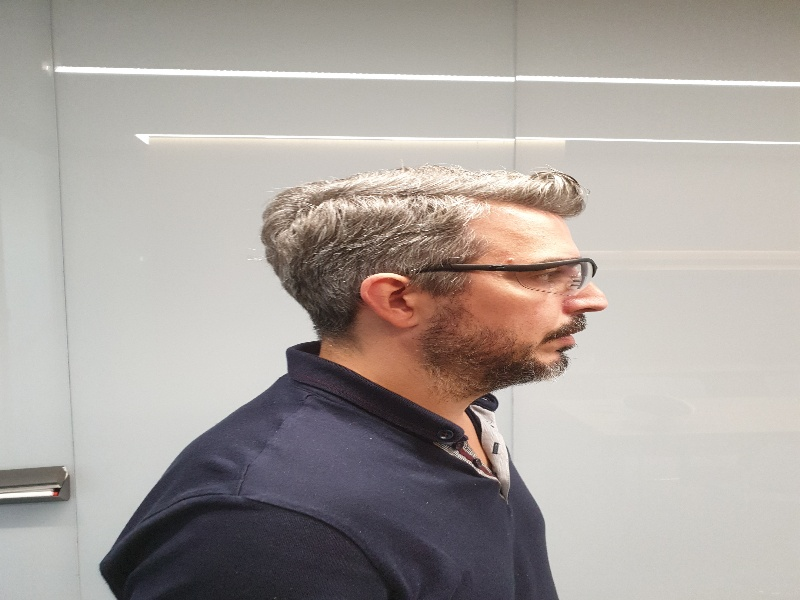Gozluk: (434, 256, 599, 294)
